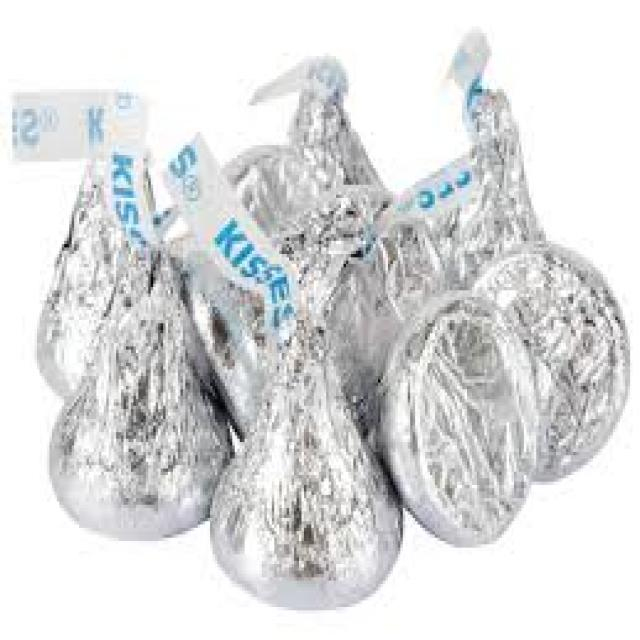kisses: (208, 291, 408, 612), (55, 243, 235, 543), (372, 271, 537, 551), (466, 236, 632, 486), (40, 146, 188, 405)
